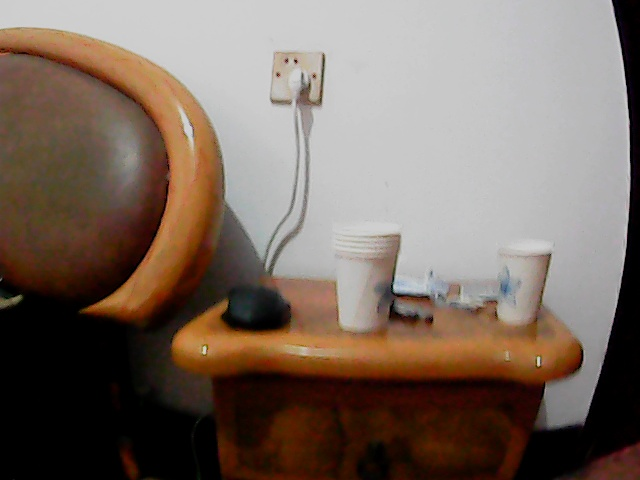cup: (330, 223, 401, 335)
mouse: (219, 278, 290, 333)
